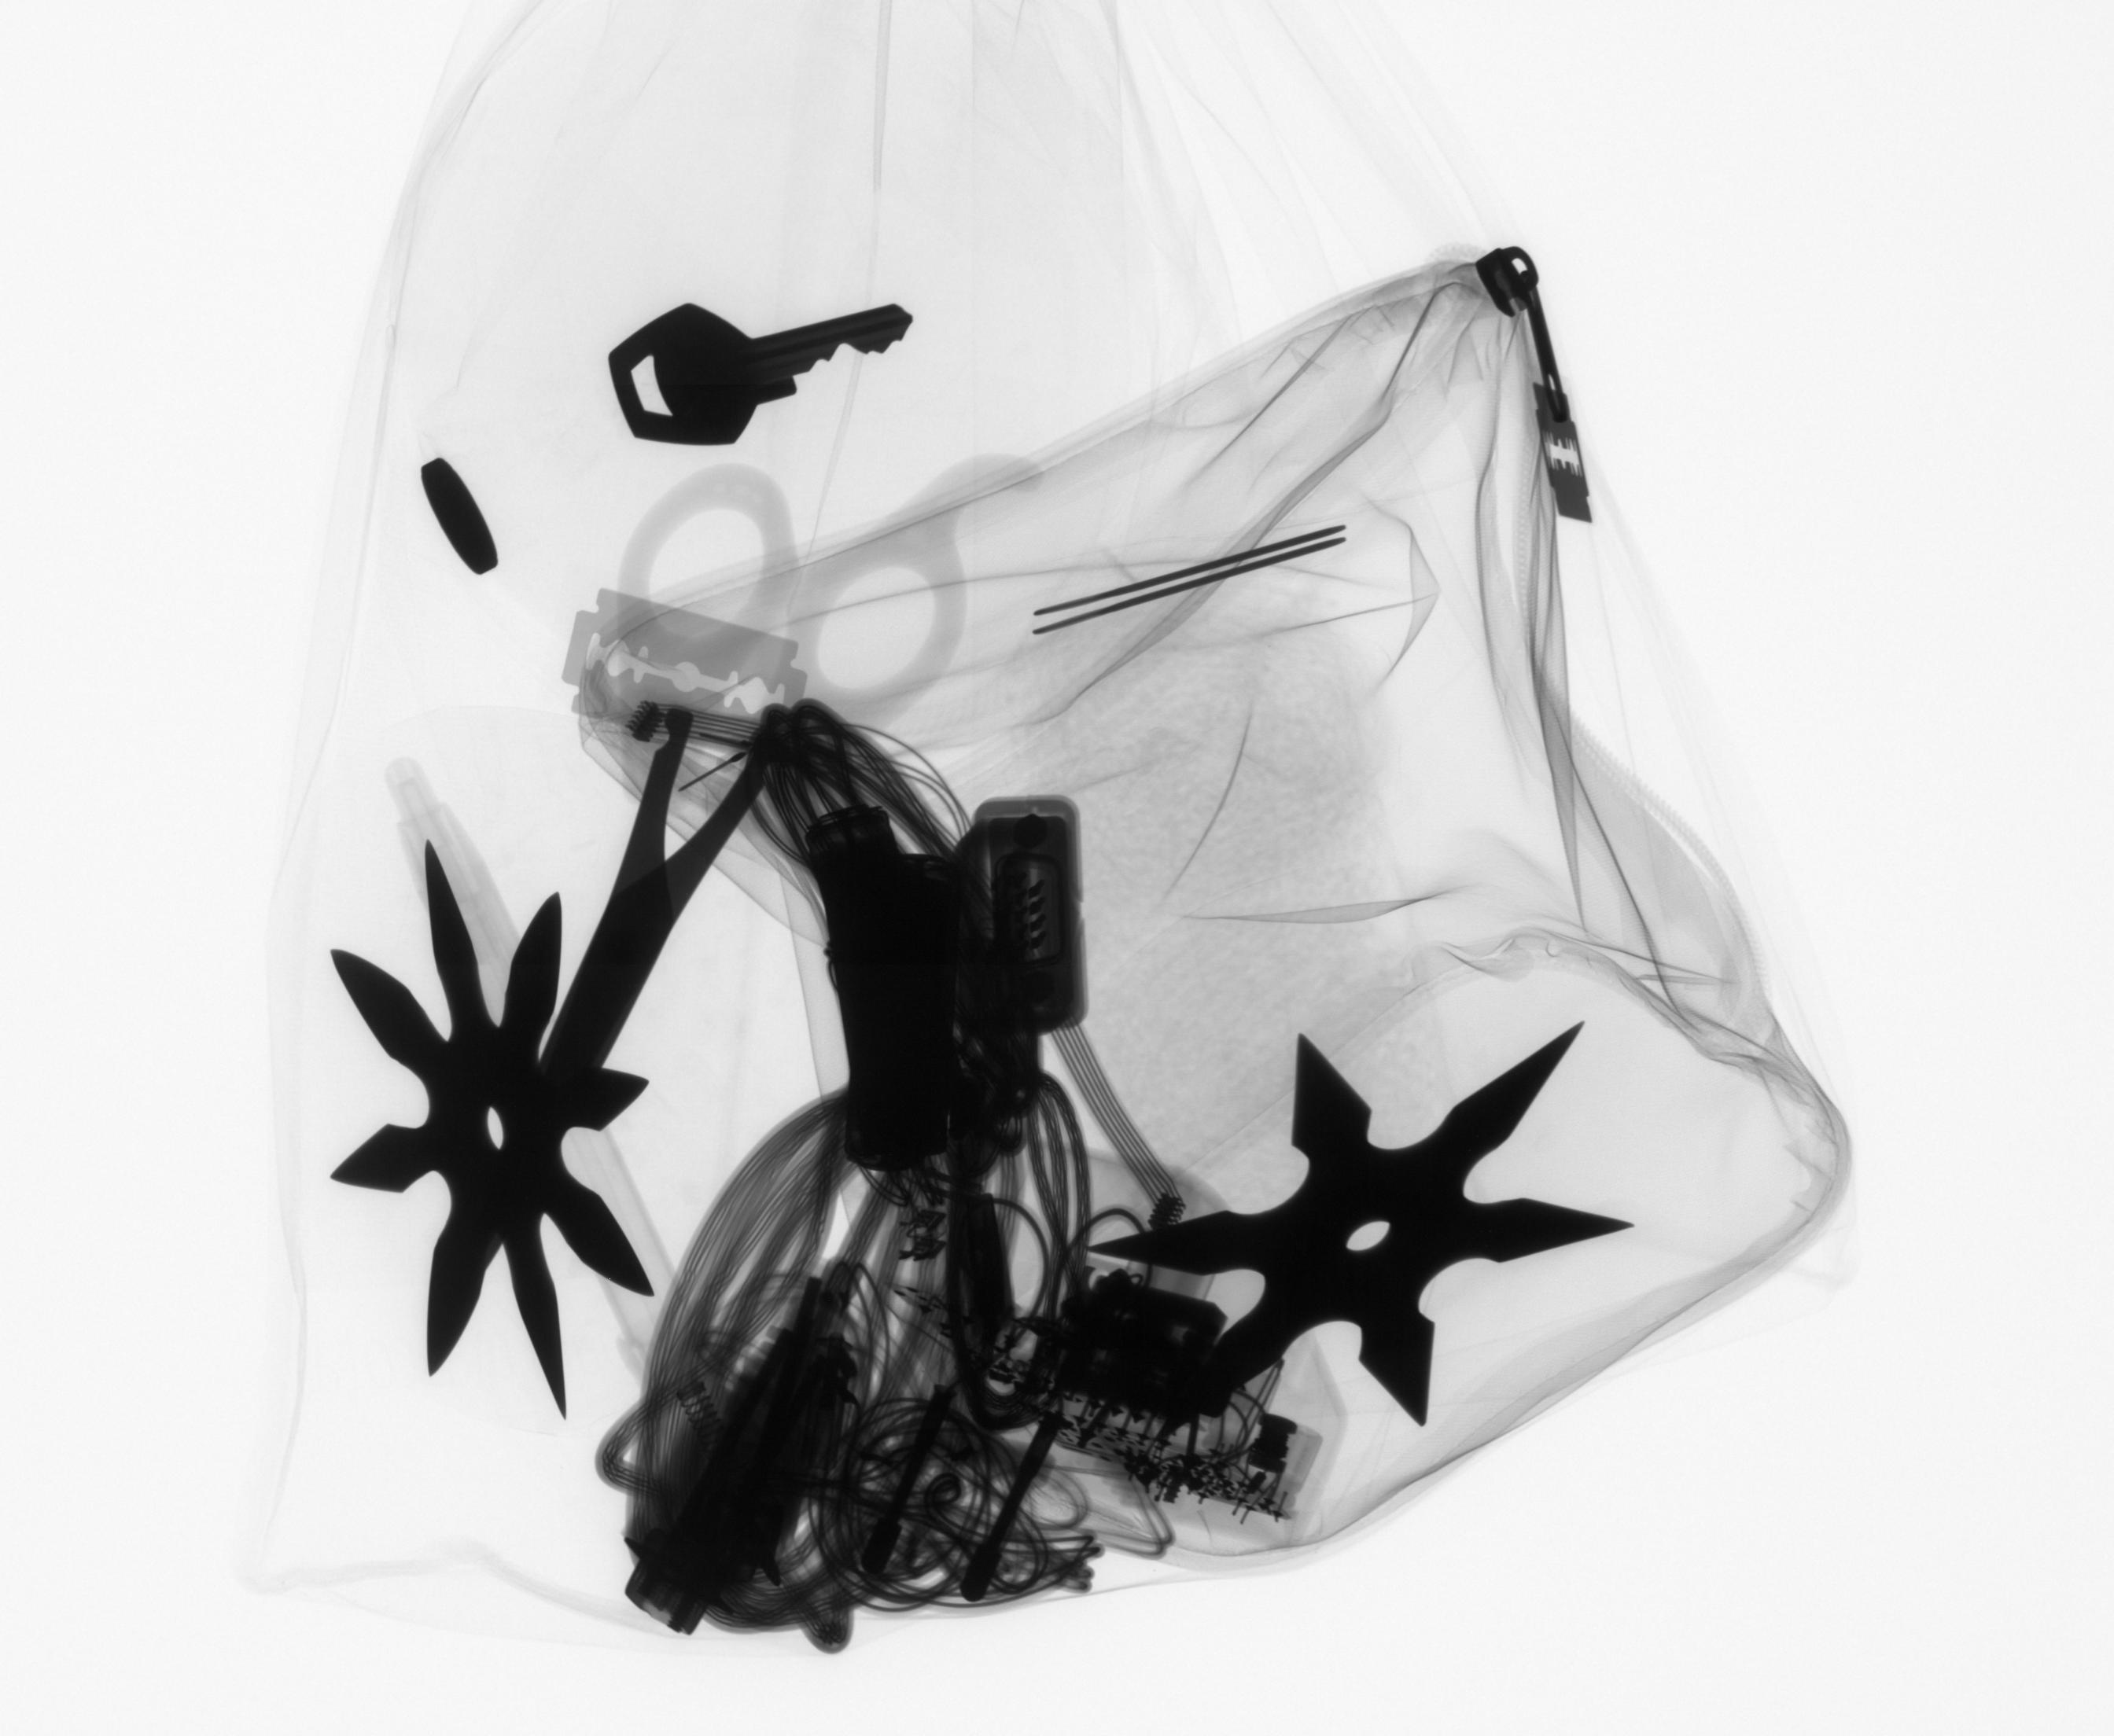RazorBlade: (557, 576, 815, 786)
Shuriken: (1066, 1013, 1642, 1453), (311, 829, 672, 1434)
